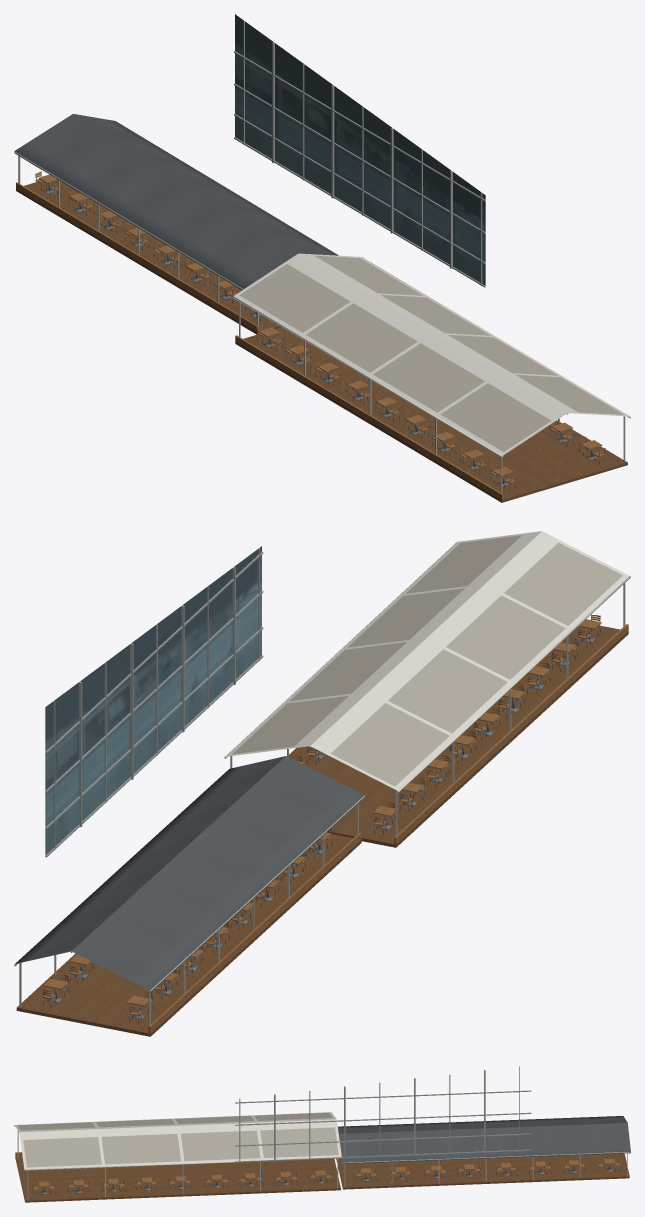
3 views of the same model, one above another, from view 1: azimuth 30°, elevation 25°; view 2: azimuth 150°, elevation 25°; view 3: azimuth 270°, elevation 25° (orthographic). The views are drawn at different scales.
Parts seen in each view (by area): view 1: One Fullerton laminated glazing, Roof infill, Charcoal, Deck, Pale roof trim, Teak, Anodised glazing bars, Metal, Canopy frame; view 2: Charcoal, Roof infill, One Fullerton laminated glazing, Deck, Pale roof trim, Teak, Anodised glazing bars, Metal, Canopy frame; view 3: Deck, Charcoal, Roof infill, Pale roof trim, Anodised glazing bars, Teak, Metal, Canopy frame.
Part boxes in pixels (<box>): One Fullerton laminated glazing: <box>235,14,485,285</box>; Roof infill: <box>239,255,623,451</box>; Charcoal: <box>15,114,338,290</box>; Deck: <box>16,180,627,502</box>; Pale roof trim: <box>232,253,630,457</box>; Teak: <box>16,172,605,499</box>; Anodised glazing bars: <box>234,21,485,287</box>; Metal: <box>35,171,605,490</box>; Canopy frame: <box>14,151,630,493</box>; Charcoal: <box>14,756,364,992</box>; Roof infill: <box>232,535,622,786</box>; One Fullerton laminated glazing: <box>45,546,261,855</box>; Deck: <box>16,625,628,1036</box>; Pale roof trim: <box>224,531,630,792</box>; Teak: <box>42,615,628,1033</box>; Anodised glazing bars: <box>45,548,263,857</box>; Metal: <box>42,614,600,1024</box>; Canopy frame: <box>14,583,625,1025</box>; Deck: <box>15,1153,629,1202</box>; Charcoal: <box>338,1116,630,1163</box>; Roof infill: <box>17,1112,338,1167</box>; Pale roof trim: <box>14,1112,341,1170</box>; Anodised glazing bars: <box>235,1066,531,1162</box>; Teak: <box>15,1152,621,1190</box>; Metal: <box>31,1159,621,1194</box>; Canopy frame: <box>17,1130,630,1200</box>.
Size of the model in its own units: 11.22 by 10.61 by 45.99.
Materials: 9 (4 with a texture image).
